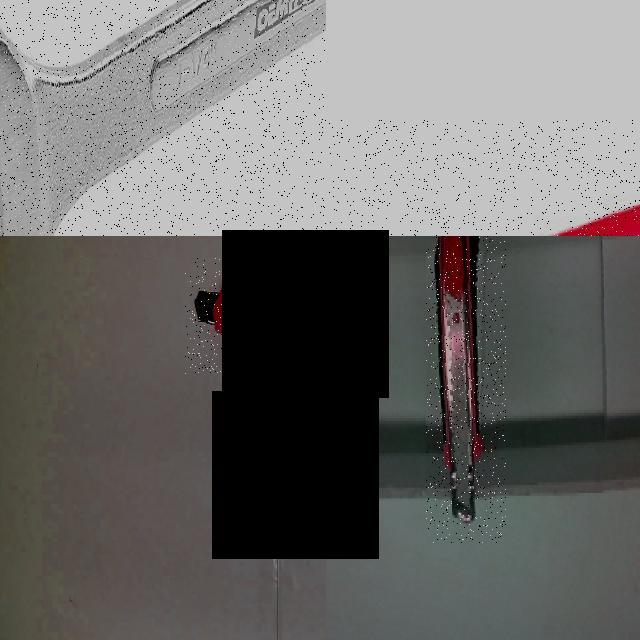estilete: (436, 236, 483, 522)
